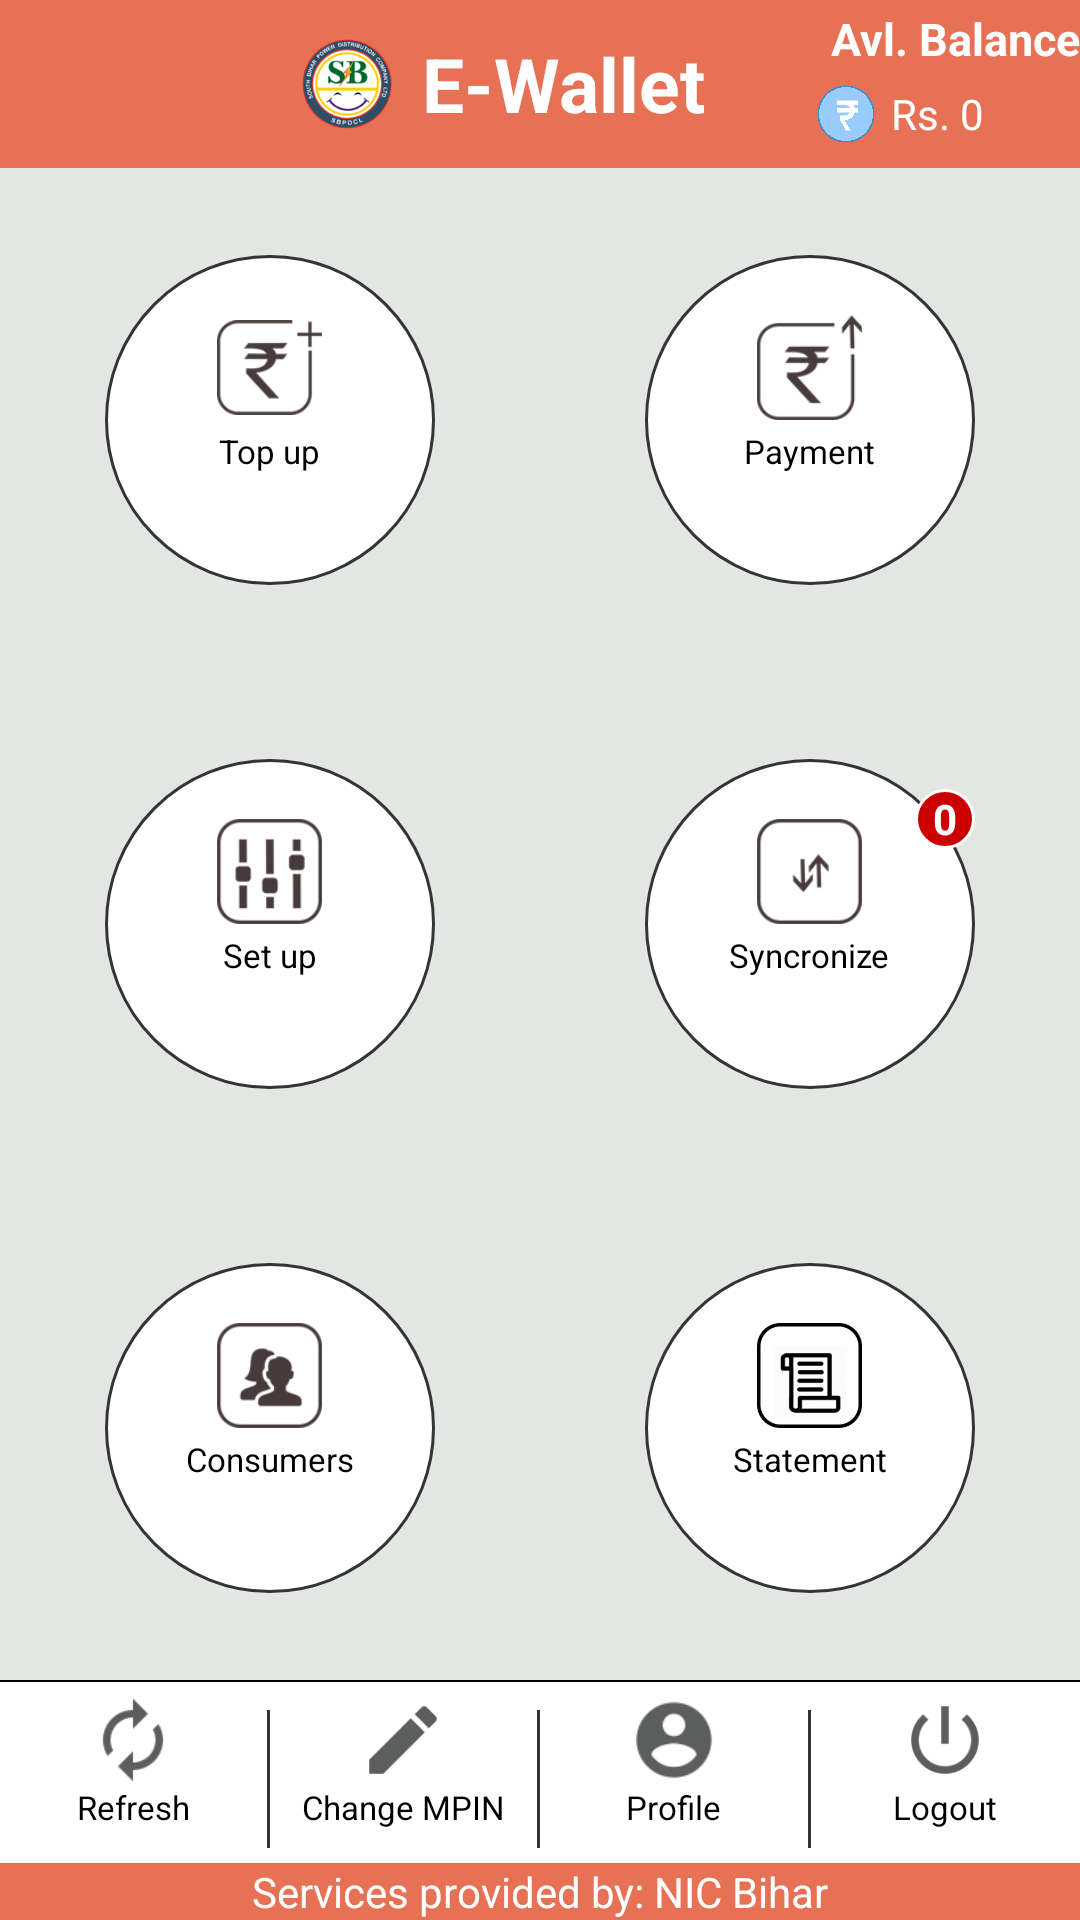

Icon bounding boxes for this 1080px×1920px phone screenshot, format BBox(x1, y1, x2, y2):
rupee: BBox(817, 85, 875, 143)
